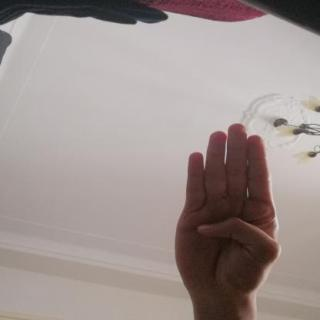KAAF: (156, 114, 294, 309)
